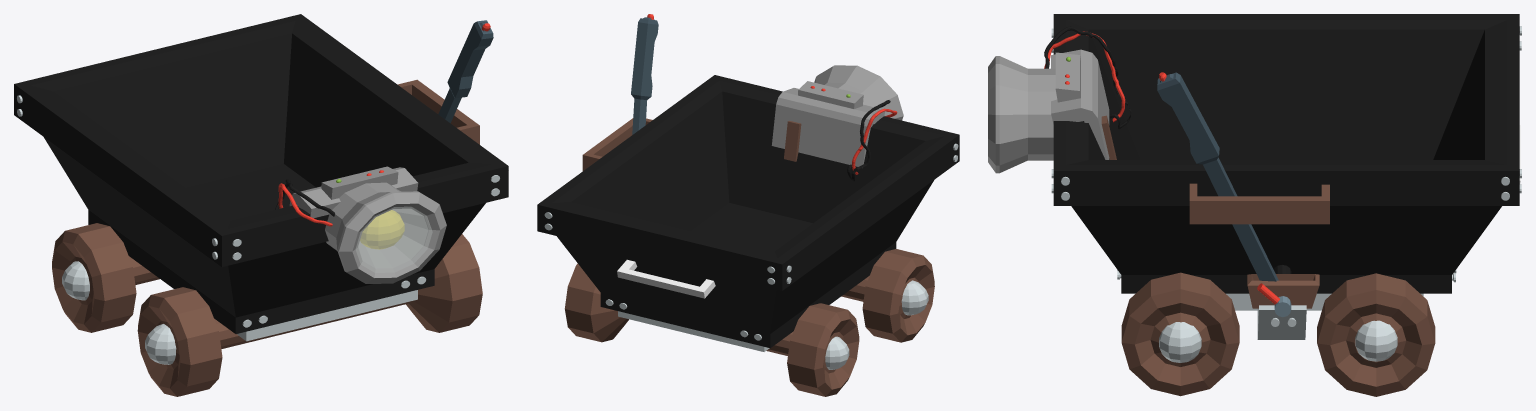
File: carttest.glb
3 renders of one model, left to right at view 1: azimuth 30°, elevation 25°; view 2: azimuth 150°, elevation 25°; view 3: azimuth 270°, elevation 25°, orthographic. The views are drawn at different scales.
Visible parts, largest first — view 1: group886312682, group672785919, group1740952096, group1959756306, group1695922619, group208685076, group325307691, group1534735487, group876192833, group1870260659, group139019841; view 2: group886312682, group1959756306, group672785919, group1534735487, group1740952096, group208685076, group1903098872, group139019841, group325307691, group876192833, group111032520; view 3: group886312682, group1959756306, group672785919, group1740952096, group876192833, group208685076, group1534735487, group601013571, group1224683189, group139019841, group325307691, group467192013.
Boxes of the visible parts, bbox=[...] form: group886312682: bbox=[14, 14, 508, 333]; group672785919: bbox=[137, 234, 482, 396]; group1740952096: bbox=[325, 182, 446, 283]; group1959756306: bbox=[52, 223, 159, 332]; group1695922619: bbox=[356, 207, 432, 272]; group208685076: bbox=[438, 20, 493, 123]; group325307691: bbox=[237, 290, 417, 341]; group1534735487: bbox=[289, 167, 418, 218]; group876192833: bbox=[397, 79, 479, 144]; group1870260659: bbox=[360, 210, 404, 249]; group139019841: bbox=[321, 166, 398, 199]; group886312682: bbox=[537, 75, 959, 348]; group1959756306: bbox=[564, 263, 859, 396]; group672785919: bbox=[841, 249, 934, 342]; group1534735487: bbox=[771, 88, 884, 166]; group1740952096: bbox=[814, 65, 903, 120]; group208685076: bbox=[631, 17, 658, 134]; group1903098872: bbox=[617, 259, 715, 298]; group139019841: bbox=[798, 81, 863, 108]; group325307691: bbox=[618, 311, 769, 351]; group876192833: bbox=[582, 118, 652, 170]; group111032520: bbox=[784, 121, 801, 161]; group886312682: bbox=[1053, 14, 1519, 293]; group1959756306: bbox=[1317, 273, 1435, 396]; group672785919: bbox=[1121, 272, 1239, 396]; group1740952096: bbox=[988, 56, 1057, 173]; group876192833: bbox=[1189, 183, 1329, 224]; group208685076: bbox=[1157, 72, 1278, 281]; group1534735487: bbox=[1051, 49, 1109, 159]; group601013571: bbox=[1247, 274, 1319, 308]; group1224683189: bbox=[1257, 305, 1306, 339]; group139019841: bbox=[1055, 52, 1080, 102]; group325307691: bbox=[1226, 293, 1423, 310]; group467192013: bbox=[1044, 31, 1125, 122].
Size of the model in its own units: 2.72 by 2.3 by 3.32.
